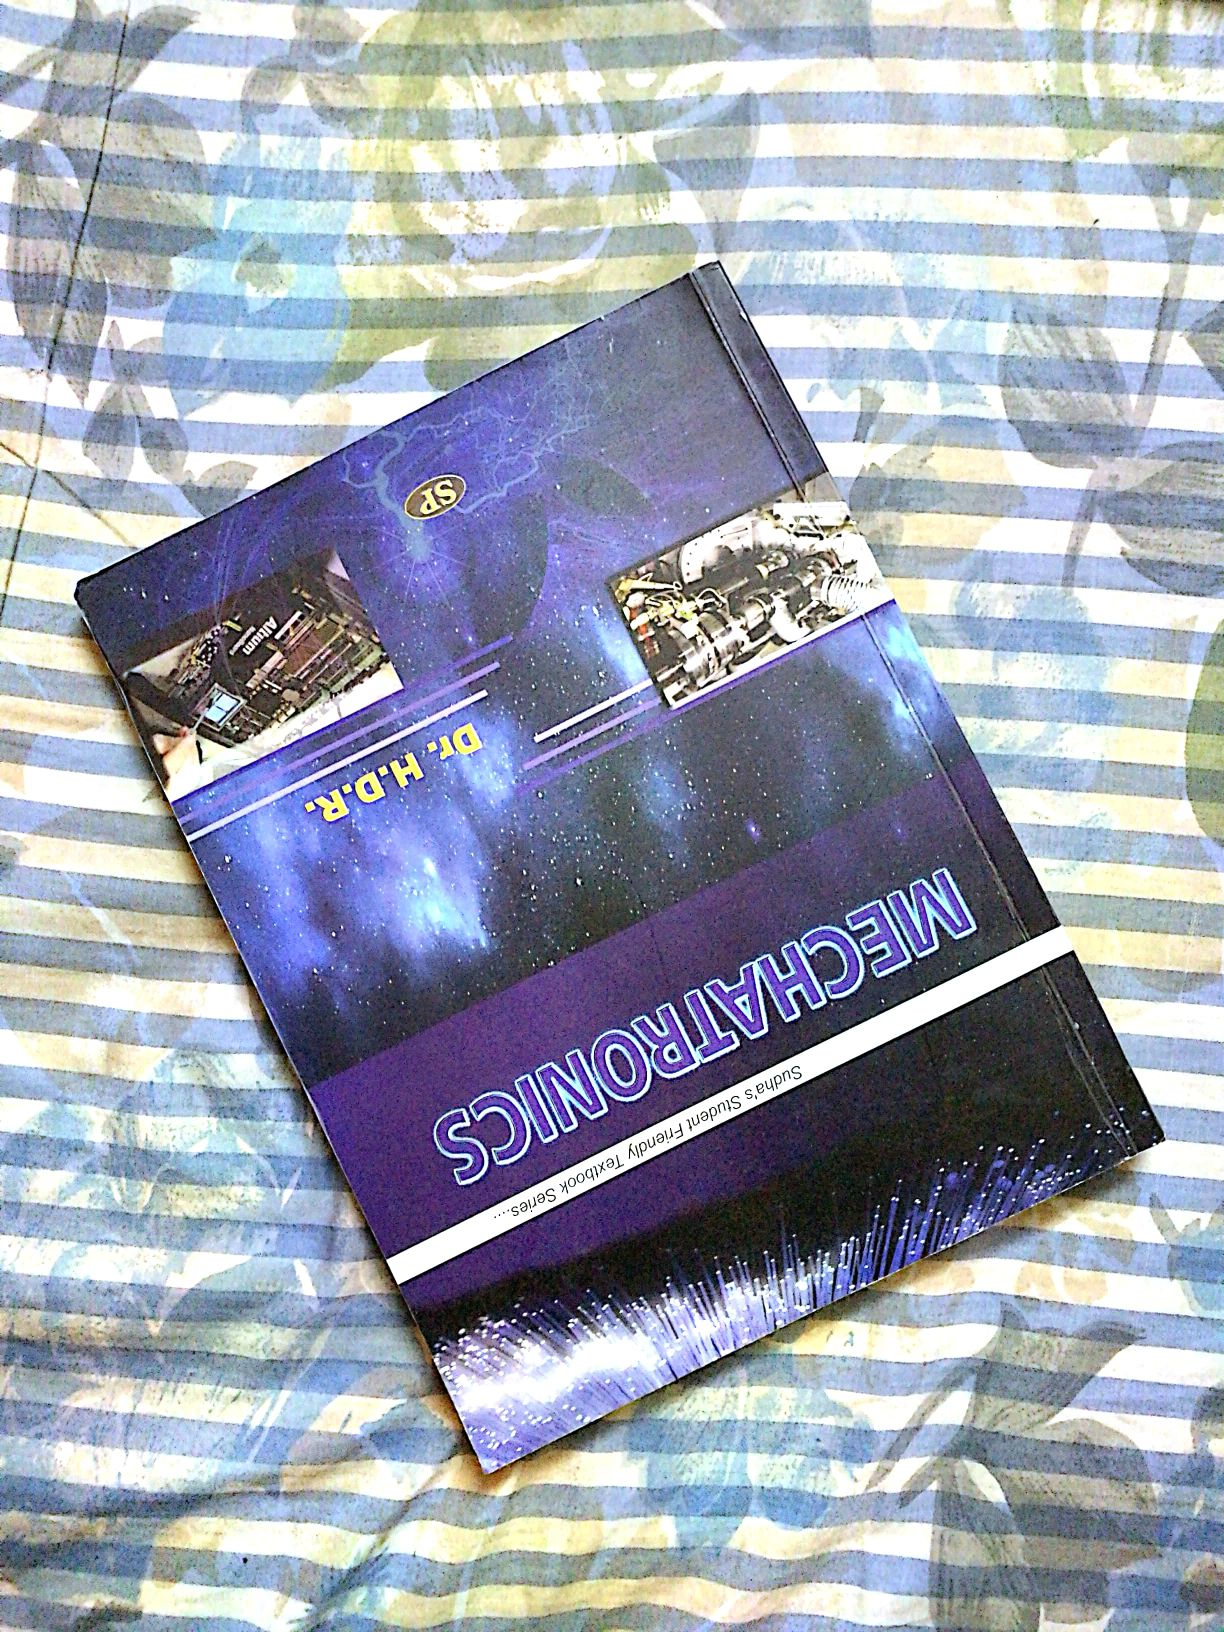mechatronics: (141, 296, 1113, 1459)
